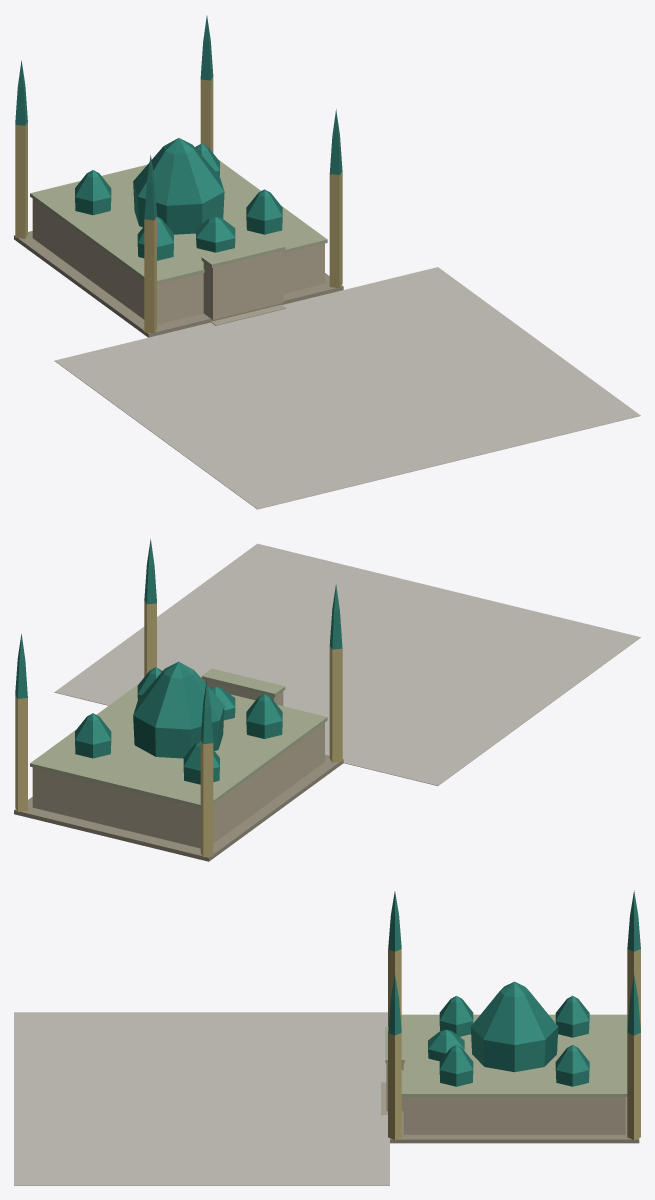
The model's file is an-nur-lod2.glb.
The picture shows the model from 3 angles, top to bottom: view 1: azimuth 30°, elevation 25°; view 2: azimuth 150°, elevation 25°; view 3: azimuth 270°, elevation 25°; orthographic projection. The views are drawn at different scales.
Parts seen in each view (by area): view 1: AnNur_LOD2; view 2: AnNur_LOD2; view 3: AnNur_LOD2.
Part boxes in pixels (<box>): AnNur_LOD2: <box>14,15,640,509</box>; AnNur_LOD2: <box>14,539,640,861</box>; AnNur_LOD2: <box>14,890,640,1185</box>.
Size of the model in its own units: 120 by 54 by 184.
